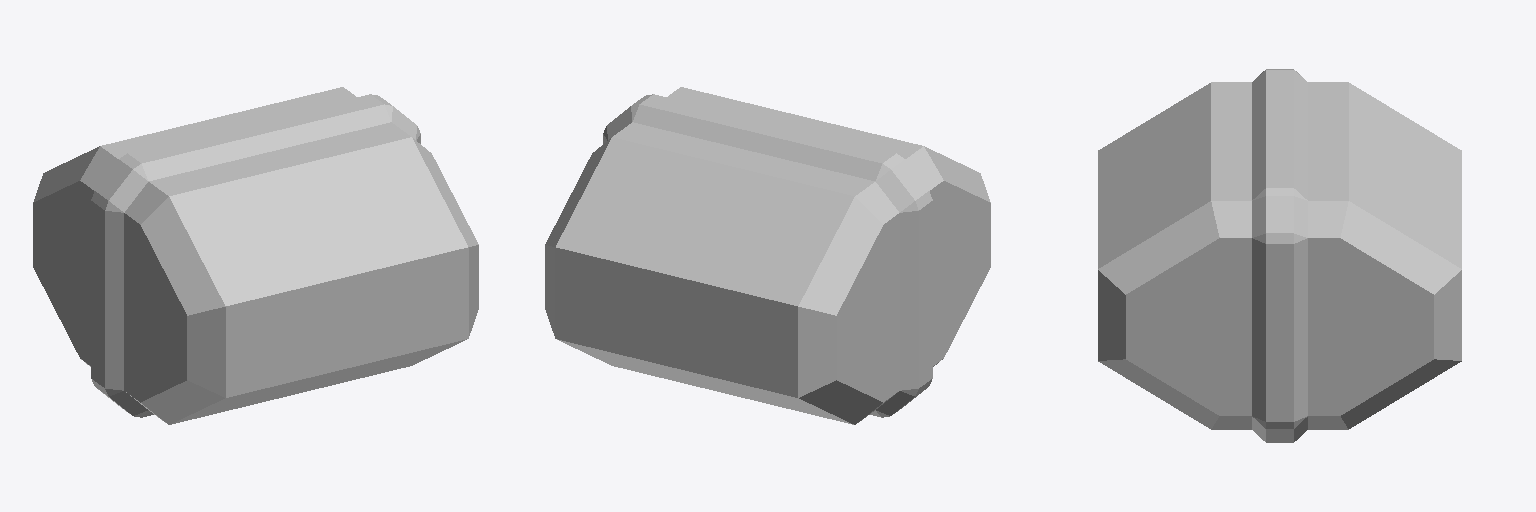
The model's file is Spacestation_Weapon_Modular_Gun_Barrel_Straight.obj.
3 renders of one model, left to right at view 1: azimuth 30°, elevation 25°; view 2: azimuth 150°, elevation 25°; view 3: azimuth 270°, elevation 25°, orthographic.
Parts seen in each view (by area): view 1: object1, object2; view 2: object1, object2; view 3: object1, object2.
Boxes of the visible parts, x1,y1,x2,y2 form: object1: [33, 87, 478, 424]; object2: [91, 94, 420, 417]; object1: [545, 87, 990, 424]; object2: [603, 94, 932, 417]; object1: [1098, 82, 1461, 429]; object2: [1252, 69, 1307, 442].
Size of the model in its own units: 1.3 by 1 by 1.3.